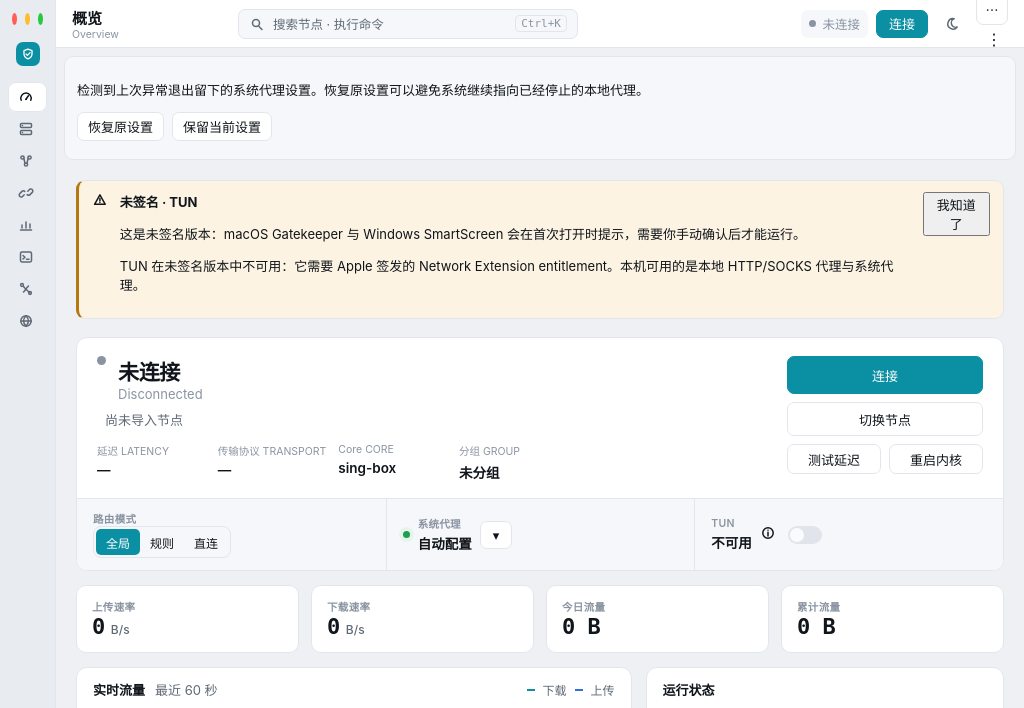
Test: App › keeps the recovery choice visible when restoration fails
Click the button "恢复原设置". click: (120, 126)
box: x1=77 y1=112 x2=164 y2=141
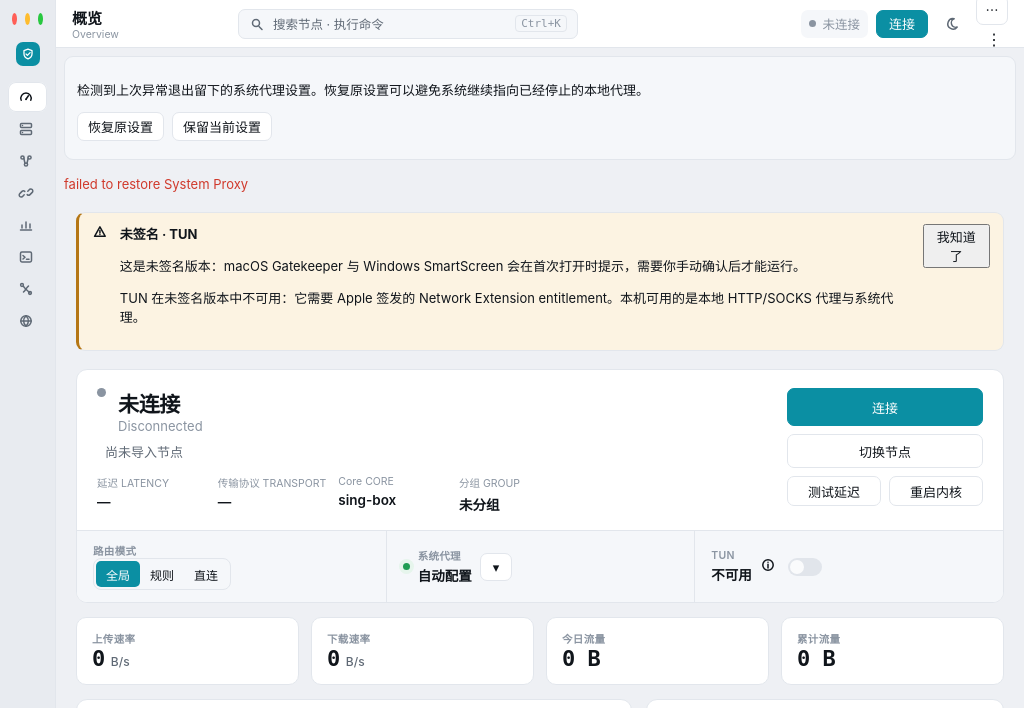
Expected: the element named "系统代理恢复" is shown, x1=64 y1=56 x2=1016 y2=160
Expected: the message "failed to restore System Proxy" is shown, x1=64 y1=176 x2=248 y2=192
